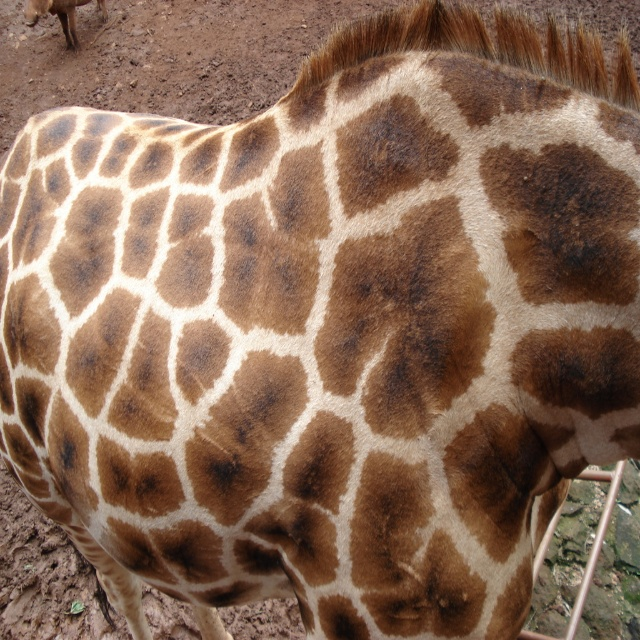Giraffe: (0, 2, 640, 640)
